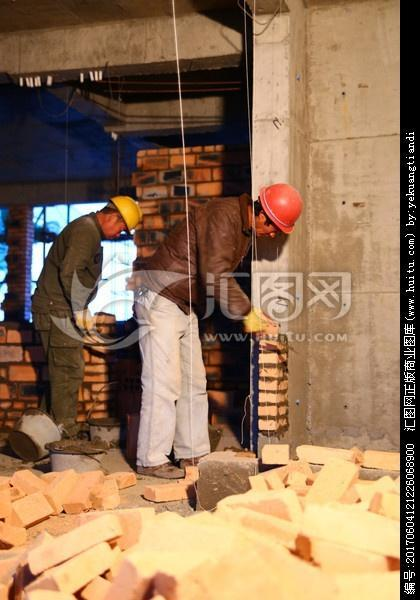helmet: (254, 177, 307, 245), (100, 189, 144, 238)
no-vest: (143, 194, 249, 313), (33, 218, 115, 338)
person: (142, 174, 303, 482), (27, 188, 136, 455)
